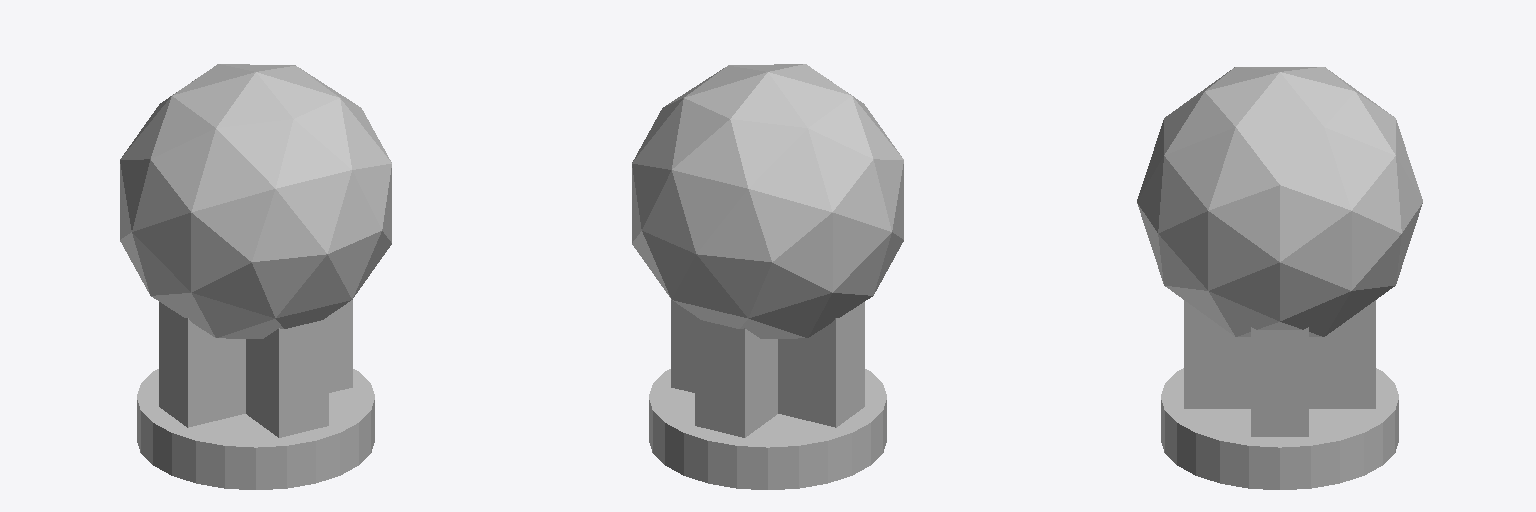
The model's file is gems_ruby_6.obj.
3 renders of one model, left to right at view 1: azimuth 30°, elevation 25°; view 2: azimuth 150°, elevation 25°; view 3: azimuth 270°, elevation 25°, orthographic.
Parts seen in each view (by area): view 1: mergedBlocks; view 2: mergedBlocks; view 3: mergedBlocks.
Boxes of the visible parts, x1,y1,x2,y2 form: mergedBlocks: [120, 64, 391, 489]; mergedBlocks: [632, 64, 903, 489]; mergedBlocks: [1137, 67, 1422, 489].
Bounding box in the file's own units: 1.2 × 1.7 × 1.2.